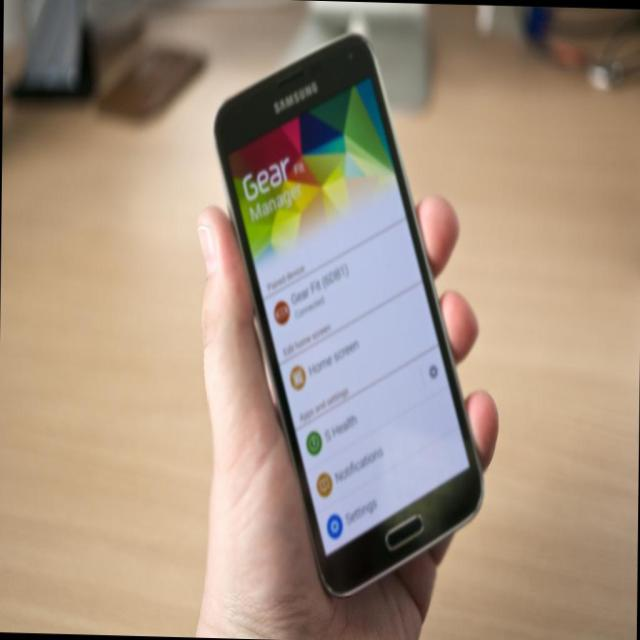handphone: (227, 31, 484, 602)
